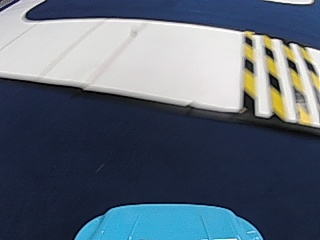bump: (244, 39, 318, 118)
